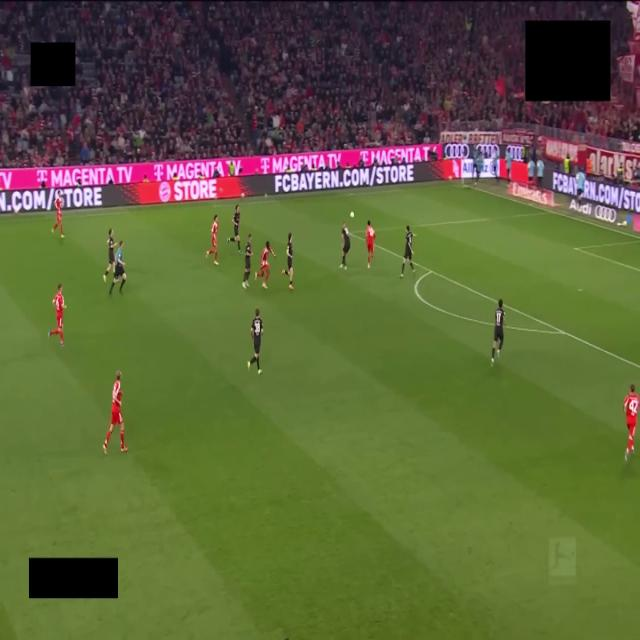ball: (350, 212, 354, 218)
player: (103, 371, 128, 454), (624, 384, 640, 460), (48, 284, 66, 346), (248, 308, 263, 374), (255, 241, 275, 288), (491, 299, 504, 365), (400, 225, 415, 278), (282, 232, 293, 290), (228, 206, 241, 253), (206, 215, 218, 265), (52, 191, 64, 238), (242, 234, 252, 288), (104, 229, 114, 282), (340, 223, 350, 270), (366, 221, 375, 268), (576, 168, 585, 204)
referee: (109, 241, 126, 295)
